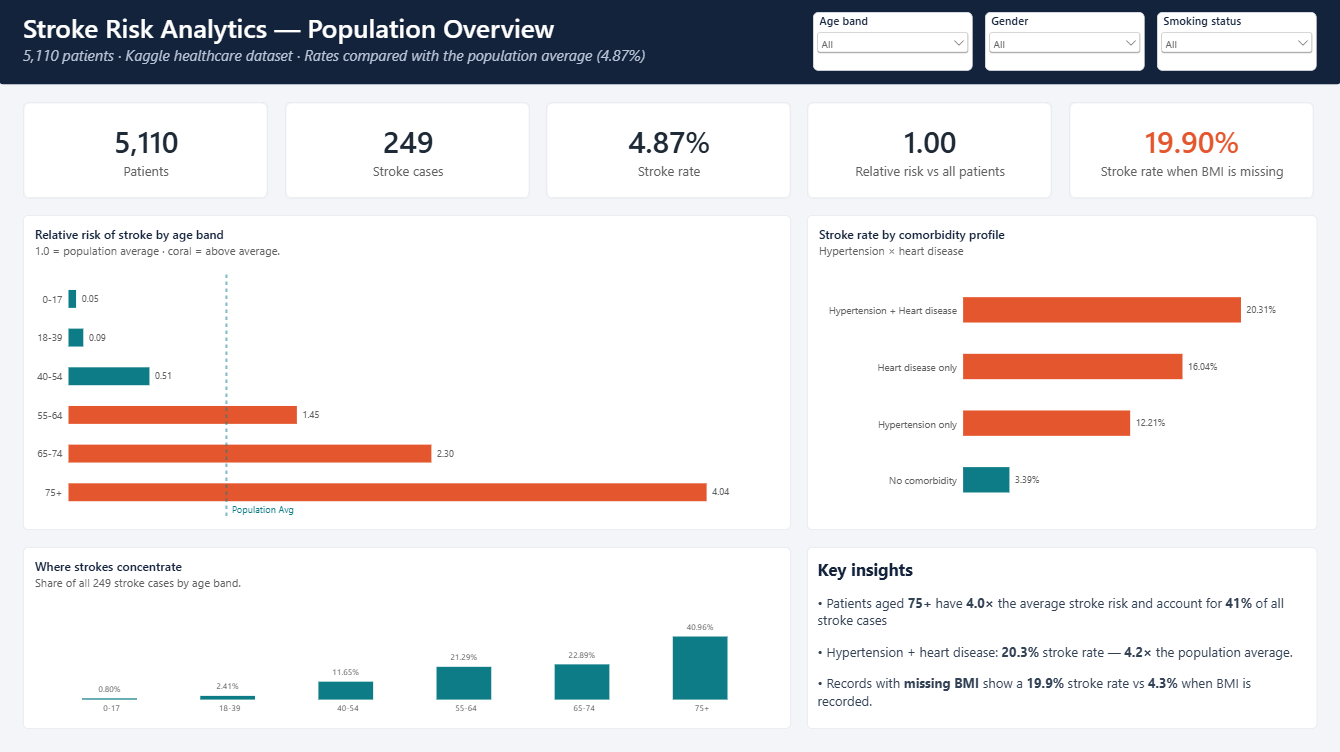

This screenshot's page, from the dashboard's own definition file:
{"tool":"powerbi","page":{"name":"Overview","canvas":[1920,1080],"ordinal":0},"visuals":[{"type":"shape","box":[0,0,1920,126],"z":0},{"type":"textbox","box":[36,18,1080,64],"z":1000},{"type":"textbox","box":[36,69,1080,39],"z":2000},{"type":"slicer","fields":{"Values":["DimAgeBand.AgeBand"]},"box":[1164,21,228,84],"z":3000},{"type":"slicer","fields":{"Values":["DimGender.Gender"]},"box":[1410,21,228,84],"z":4000},{"type":"slicer","fields":{"Values":["DimSmokingStatus.SmokingStatus"]},"box":[1656,21,228,84],"z":5000},{"type":"cardVisual","fields":{"Data":["_Measures.Patient Count Display"]},"box":[36,150,350,138],"z":6000},{"type":"cardVisual","fields":{"Data":["_Measures.Stroke Count"]},"box":[410,150,350,138],"z":7000},{"type":"cardVisual","fields":{"Data":["_Measures.Stroke Rate"]},"box":[783,150,350,138],"z":8000},{"type":"cardVisual","fields":{"Data":["_Measures.Relative Risk"]},"box":[1156,150,350,138],"z":9000},{"type":"cardVisual","fields":{"Data":["_Measures.Missing BMI Stroke Rate"]},"box":[1530,150,350,138],"z":10000},{"type":"clusteredBarChart","title":"Relative risk of stroke by age band","fields":{"Category":["DimAgeBand.AgeBand"],"Y":["_Measures.Relative Risk"]},"box":[35.7,311.4,1097.1,450],"z":11000},{"type":"clusteredBarChart","title":"Stroke rate by comorbidity profile","fields":{"Category":["DimClinicalProfile.ClinicalProfile"],"Y":["_Measures.Stroke Rate"]},"box":[1155.7,311.4,728.6,450],"z":12000},{"type":"clusteredColumnChart","title":"Where strokes concentrate","fields":{"Category":["DimAgeBand.AgeBand"],"Y":["_Measures.% of All Strokes"]},"box":[35.7,785.7,1097.1,260],"z":13000},{"type":"textbox","box":[1155.7,785.7,728.6,260],"z":14000}]}

Visuals, with their boxes in screenshot pixels (x1, y1, x2, y2), scaled from the page's 1920x1080 canvas onto the 1340x752 screenshot:
shape: detection(0, 0, 1339, 88)
textbox: detection(25, 13, 779, 57)
textbox: detection(25, 48, 779, 75)
slicer - DimAgeBand.AgeBand: detection(812, 15, 972, 73)
slicer - DimGender.Gender: detection(984, 15, 1143, 73)
slicer - DimSmokingStatus.SmokingStatus: detection(1156, 15, 1315, 73)
cardVisual - _Measures.Patient Count Display: detection(25, 104, 269, 201)
cardVisual - _Measures.Stroke Count: detection(286, 104, 530, 201)
cardVisual - _Measures.Stroke Rate: detection(546, 104, 791, 201)
cardVisual - _Measures.Relative Risk: detection(807, 104, 1051, 201)
cardVisual - _Measures.Missing BMI Stroke Rate: detection(1068, 104, 1312, 201)
"Relative risk of stroke by age band" clusteredBarChart: detection(25, 217, 791, 530)
"Stroke rate by comorbidity profile" clusteredBarChart: detection(807, 217, 1315, 530)
"Where strokes concentrate" clusteredColumnChart: detection(25, 547, 791, 728)
textbox: detection(807, 547, 1315, 728)
